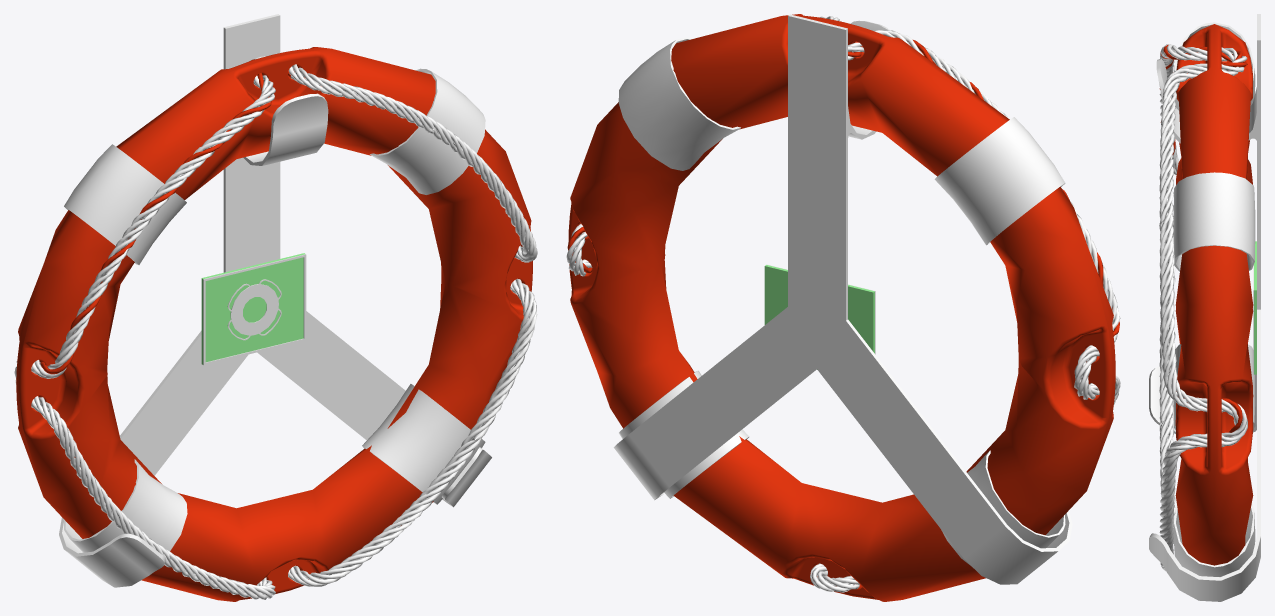
The picture shows the model from 3 angles, left to right: view 1: azimuth 30°, elevation 25°; view 2: azimuth 150°, elevation 25°; view 3: azimuth 270°, elevation 25°; orthographic projection. The views are drawn at different scales.
Parts seen in each view (by area): view 1: NAUO15; view 2: NAUO15; view 3: NAUO15.
Boxes of the visible parts, bbox=[...] form: NAUO15: bbox=[14, 14, 537, 601]; NAUO15: bbox=[566, 14, 1120, 601]; NAUO15: bbox=[1149, 14, 1260, 601].
Bounding box in the file's own units: 0.75 × 0.7744 × 0.1445.
